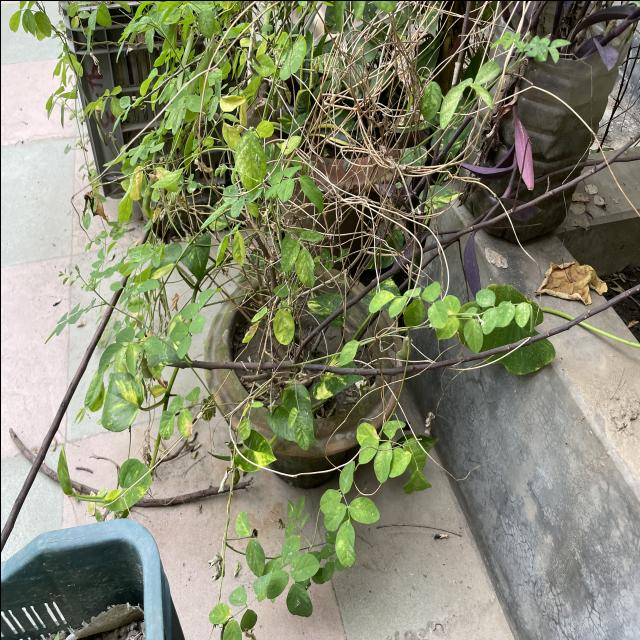Breeding Place: (444, 0, 617, 242), (198, 252, 398, 458)
